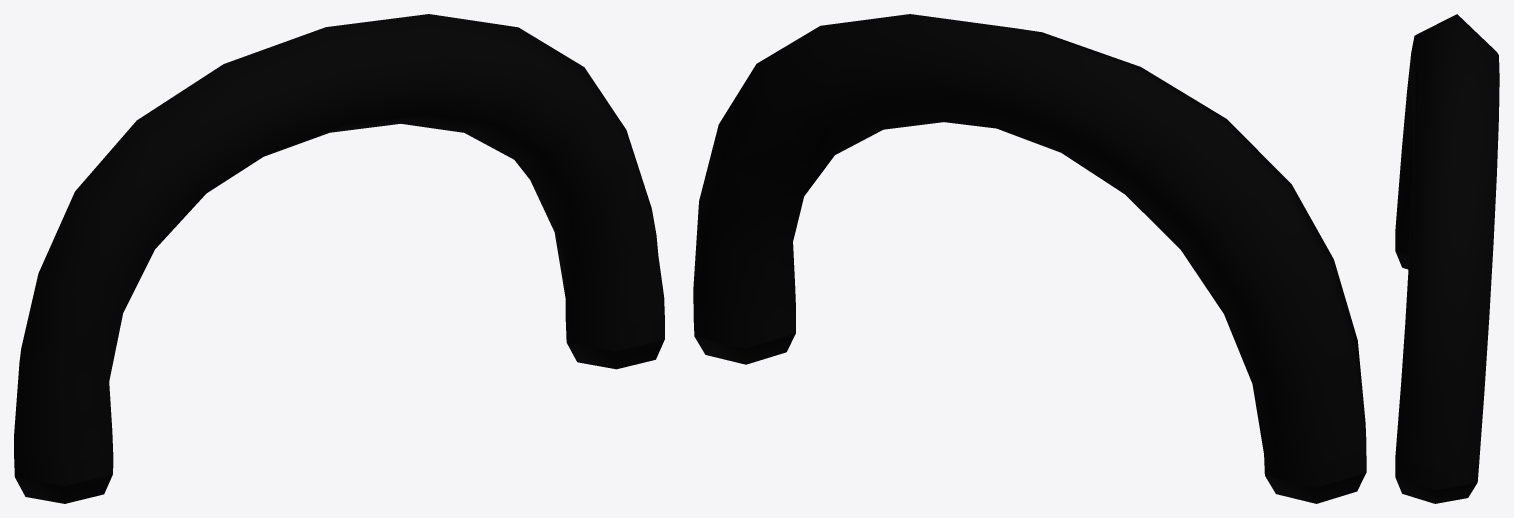
The model's file is Mouth_MM_Frown.fbx.
3 renders of one model, left to right at view 1: azimuth 30°, elevation 25°; view 2: azimuth 150°, elevation 25°; view 3: azimuth 270°, elevation 25°, orthographic. The views are drawn at different scales.
Visible parts, largest first — view 1: Mouth_Smile; view 2: Mouth_Smile; view 3: Mouth_Smile.
Boxes of the visible parts, box(x1,y1,x2,y2) form: Mouth_Smile: box(14, 14, 664, 503); Mouth_Smile: box(693, 14, 1366, 503); Mouth_Smile: box(1395, 14, 1499, 503).
Bounding box in the file's own units: 3.69 × 2.12 × 0.6103.
